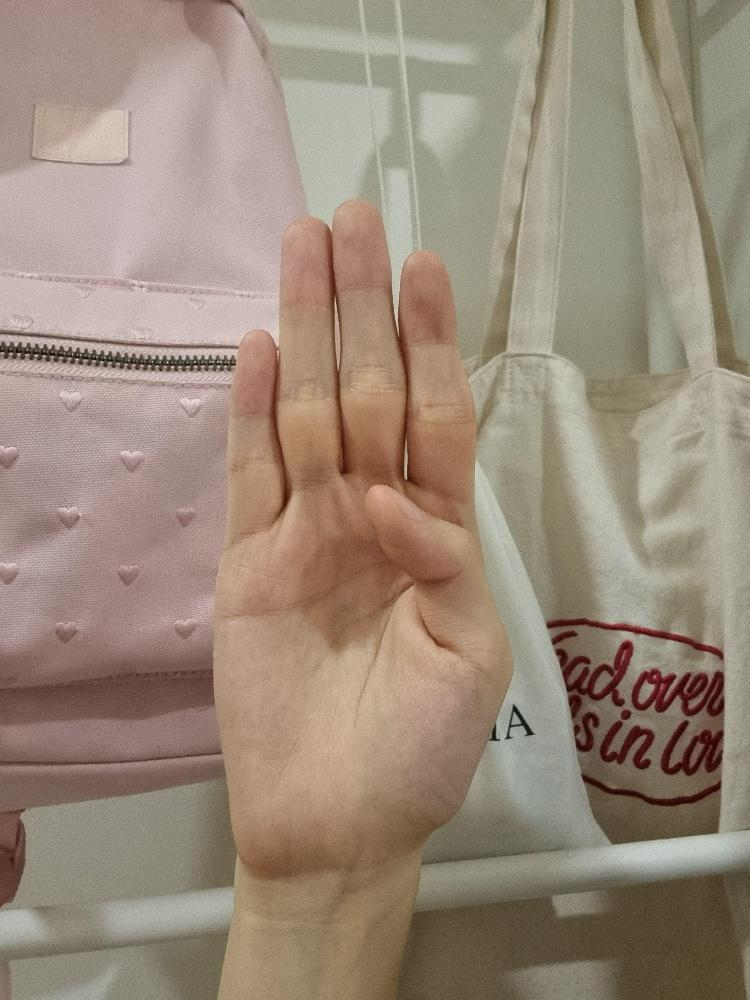b: (211, 196, 515, 884)
